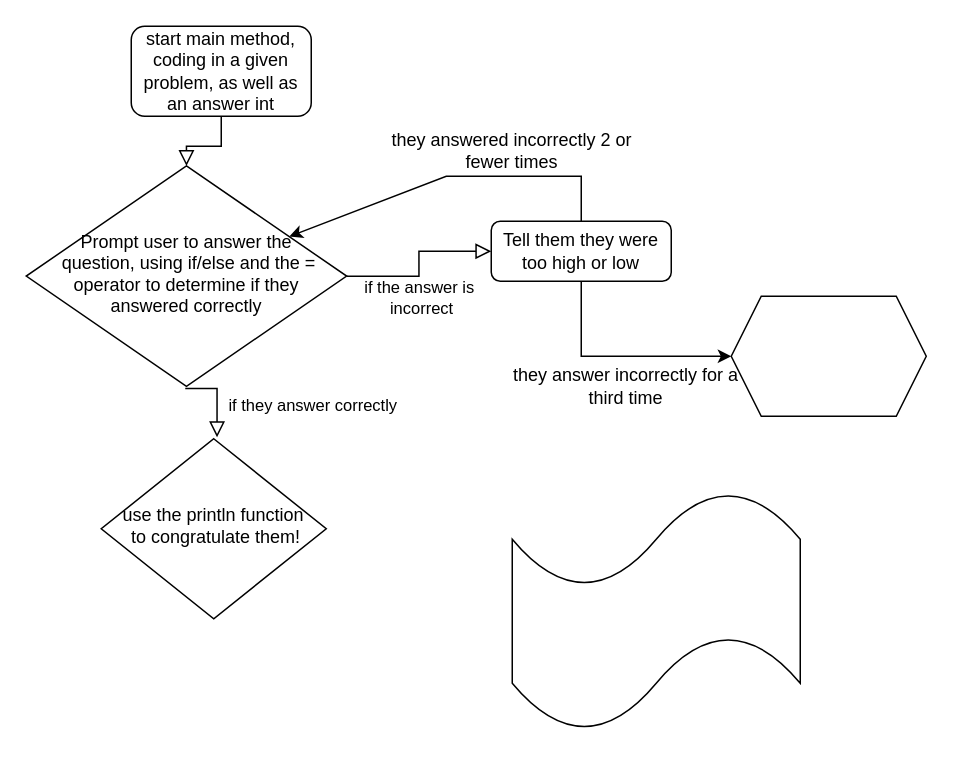
This 953x758 diagram has some shape labels left out. Here are the shapes that lost their labels. From the top down, the box of each, then its label:
(730, 295, 926, 416): Display final int ANSWER, with a println function explaining the solving process
(511, 490, 800, 731): MATH QUIZ LAYOUT
